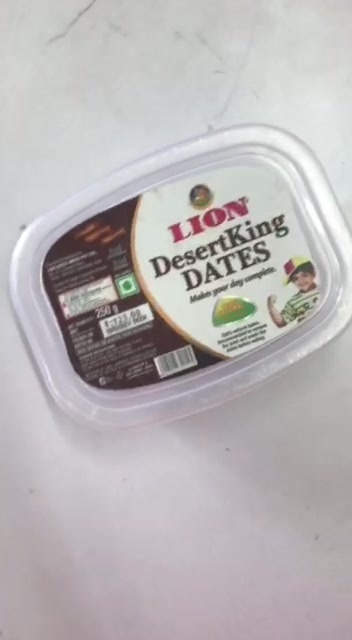Lion dates: (7, 123, 352, 428)
